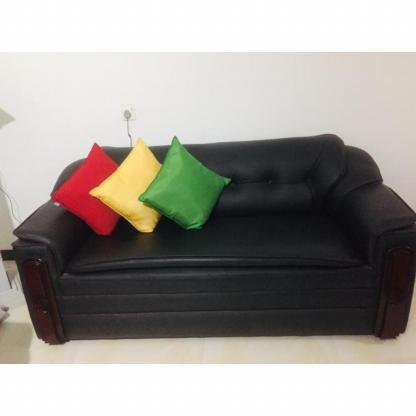Sofa: (9, 137, 413, 347)
